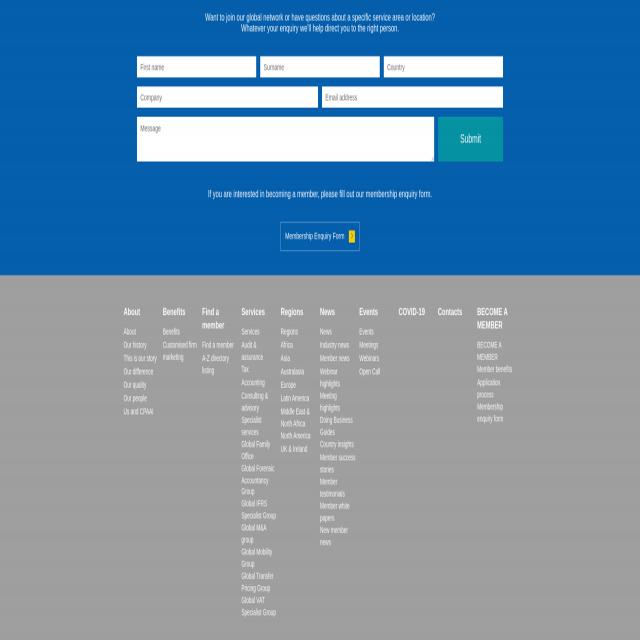button: (438, 116, 503, 162), (280, 222, 360, 251)
field: (136, 116, 434, 162), (137, 86, 318, 108), (322, 86, 503, 108), (260, 56, 380, 77), (137, 56, 256, 77), (383, 56, 502, 77)
